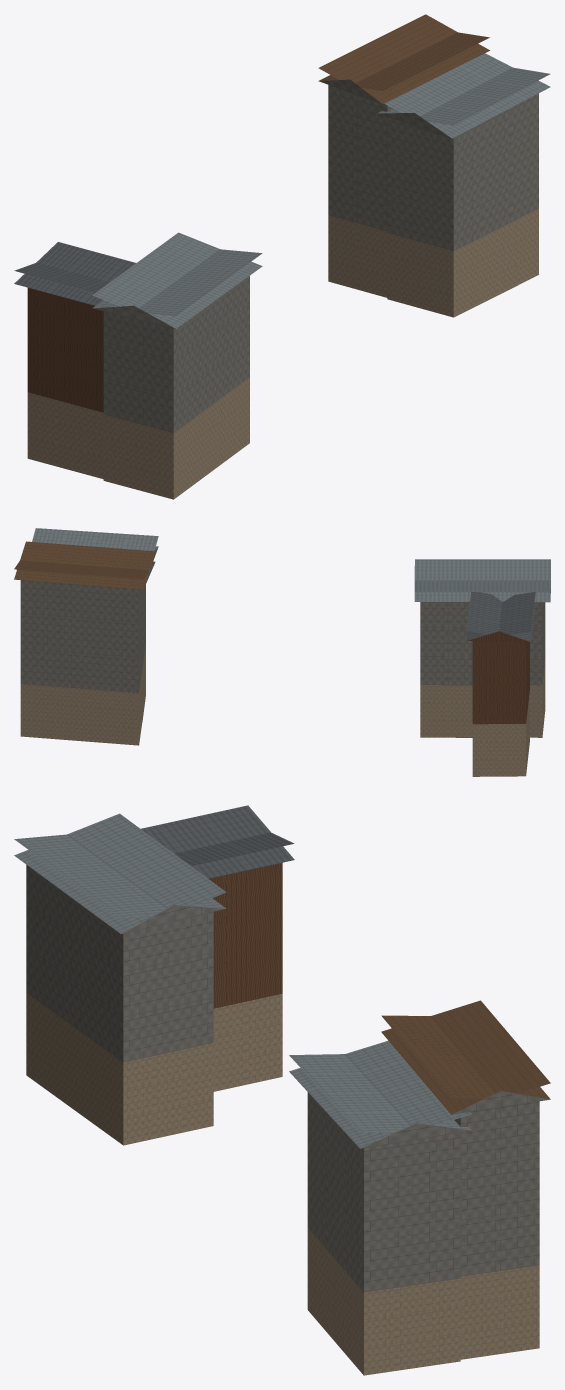
The model's file is bld_c21_32_374.gltf.
The picture shows the model from 3 angles, top to bottom: view 1: azimuth 30°, elevation 25°; view 2: azimuth 150°, elevation 25°; view 3: azimuth 270°, elevation 25°; orthographic projection. The views are drawn at different scales.
Visible parts, largest first — view 1: bld_c21_32_374; view 2: bld_c21_32_374; view 3: bld_c21_32_374.
Boxes of the visible parts, <box> form: bld_c21_32_374: <box>14,14,550,499</box>; bld_c21_32_374: <box>14,528,550,776</box>; bld_c21_32_374: <box>14,805,550,1375</box>.
Size of the model in its own units: 46.7 by 17.3 by 29.85.
Materials: 8 (8 with a texture image).
